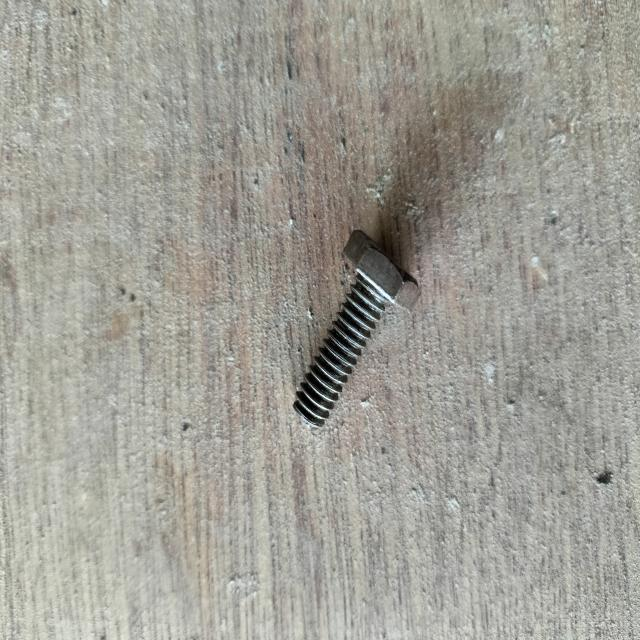bolt: (293, 230, 420, 428)
